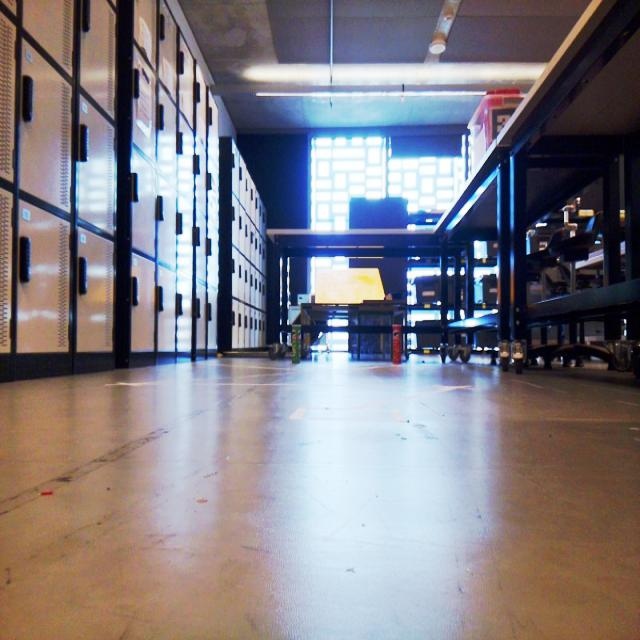greenpringles: (286, 318, 308, 375)
redpringles: (392, 317, 407, 368)
